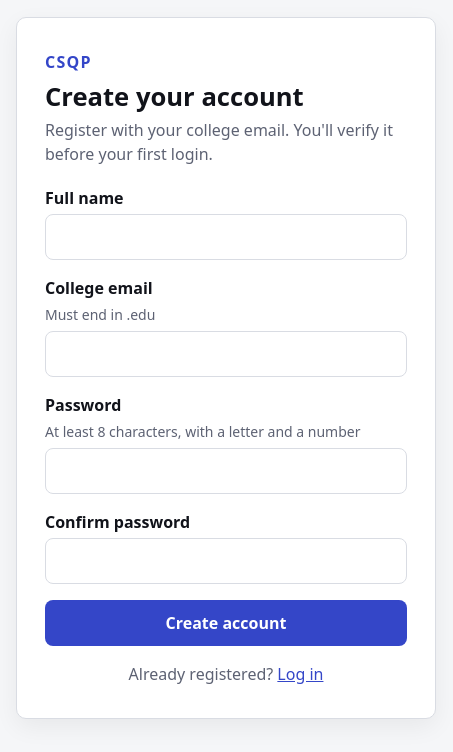
Test: RegisterPage › rejects mismatched passwords
Type "Asha Rao" into the field labelled "Full name". click: (226, 237)
box: [45, 214, 407, 260]
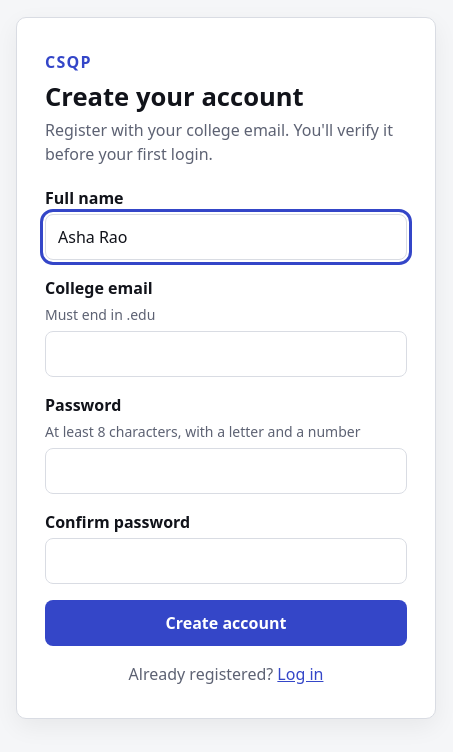
Type "asha@pes.edu" into the field labelled "College email". click: (226, 354)
box: [45, 331, 407, 377]
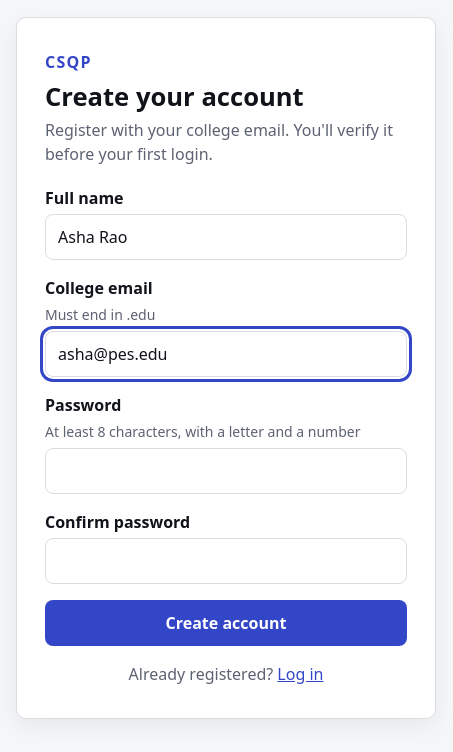
Type "Password1" into the password field labelled "Password". click: (226, 471)
box: [45, 448, 407, 494]
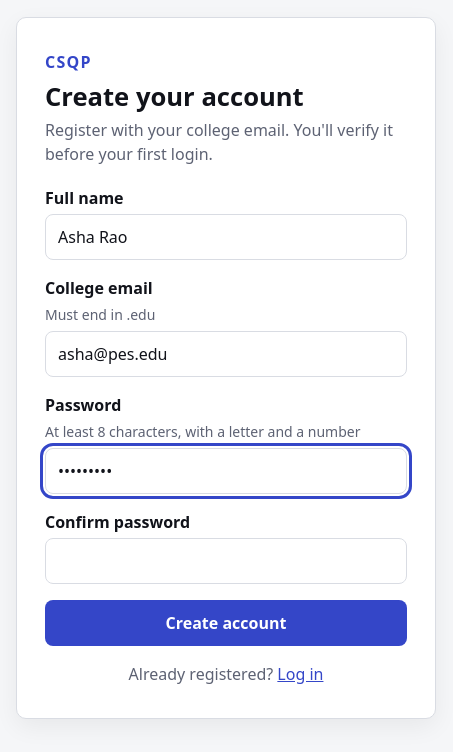
Type "Password2" into the password field labelled "Confirm password". click: (226, 561)
box: [45, 538, 407, 584]
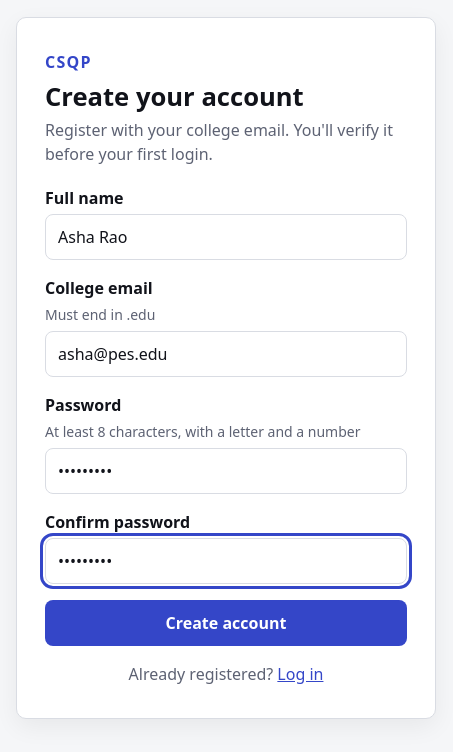
Click the button "Create account". click: (226, 623)
box: [45, 600, 407, 646]
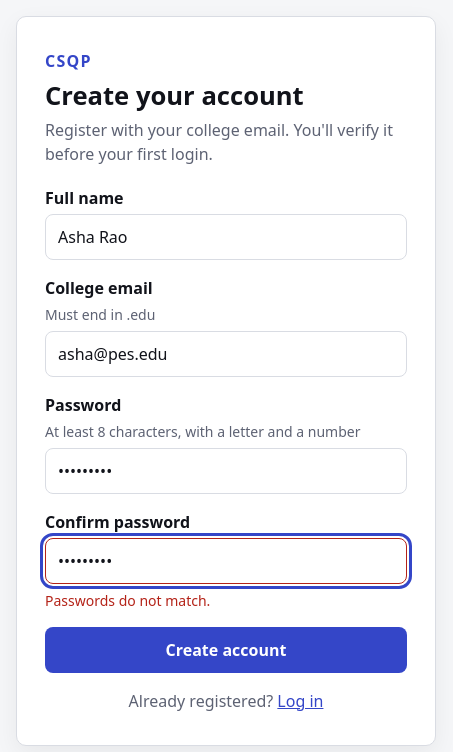
Check: the text "Passwords do not match." is shown, box [45, 591, 210, 610]
